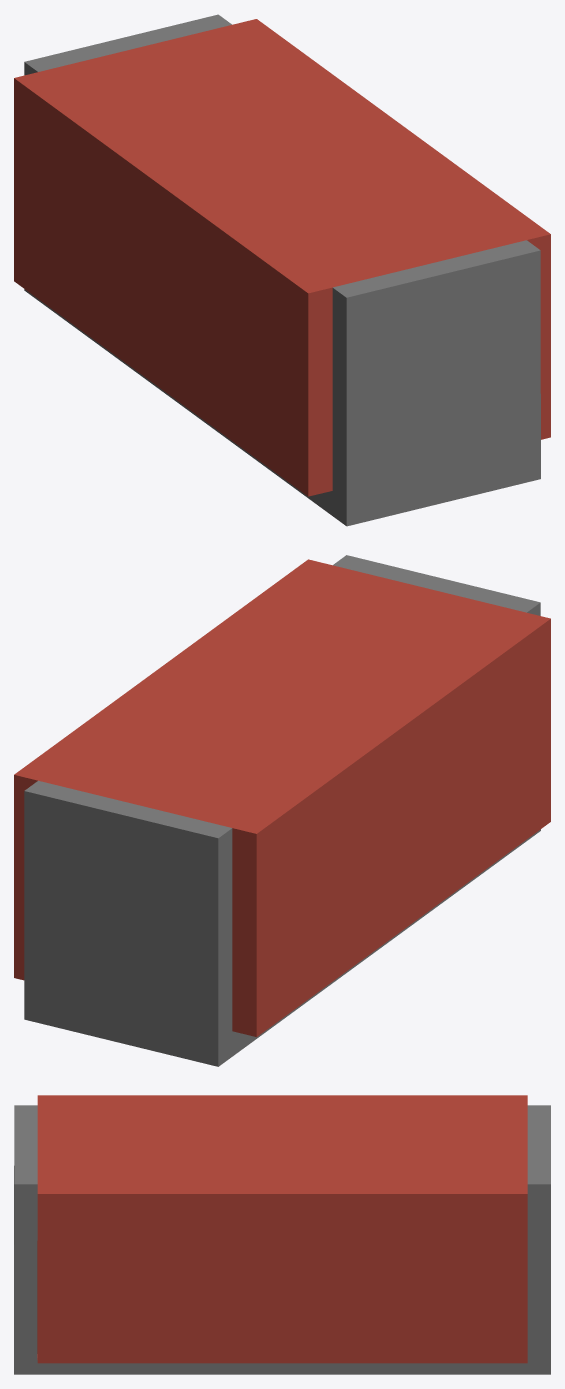
Rendered from brick_2.glb.
3 renders of one model, top to bottom at view 1: azimuth 30°, elevation 25°; view 2: azimuth 150°, elevation 25°; view 3: azimuth 270°, elevation 25°, orthographic. The views are drawn at different scales.
Parts seen in each view (by area): view 1: brick_2; view 2: brick_2; view 3: brick_2.
Boxes of the visible parts, left/top/right/bottom form: brick_2: left=14, top=14, right=550, bottom=526; brick_2: left=14, top=555, right=550, bottom=1066; brick_2: left=14, top=1095, right=550, bottom=1374.
Size of the model in its own units: 0.4 by 0.36 by 0.9204.
